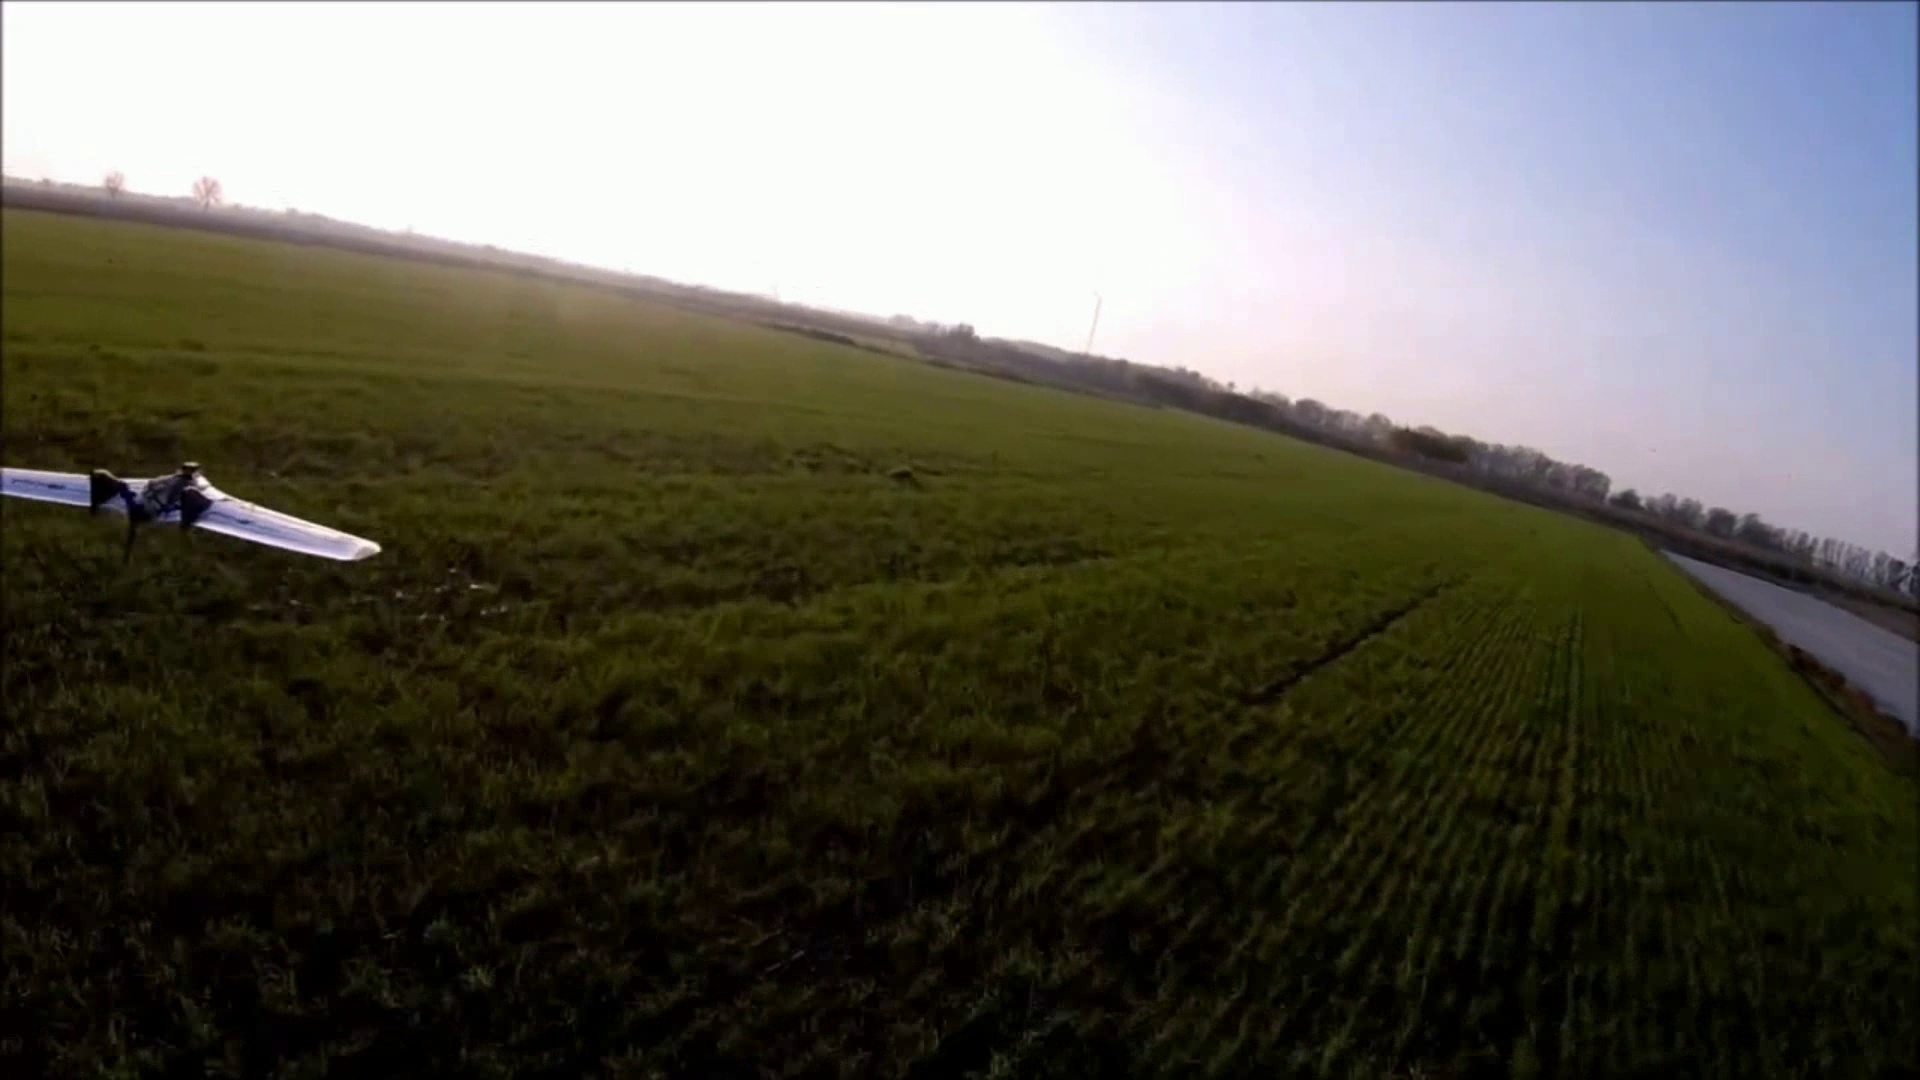airplane: (1, 463, 379, 566)
